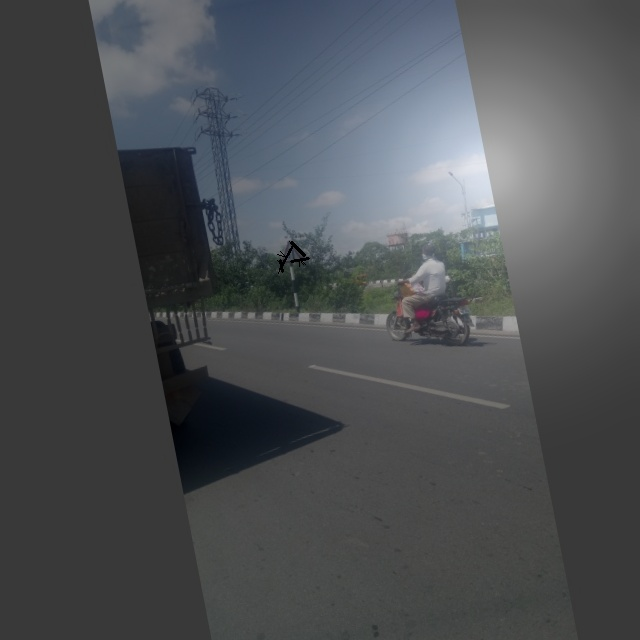U_Turn_Ahead: (273, 233, 309, 271)
